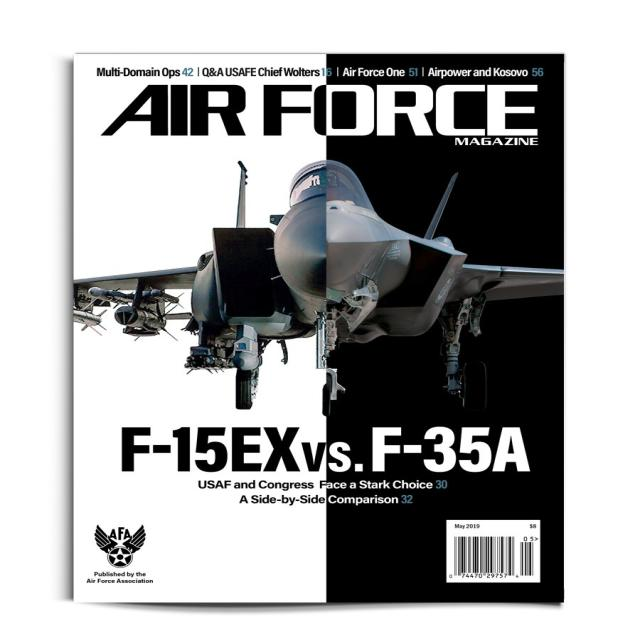MIL_Plane: (74, 160, 326, 417), (326, 159, 564, 417)
